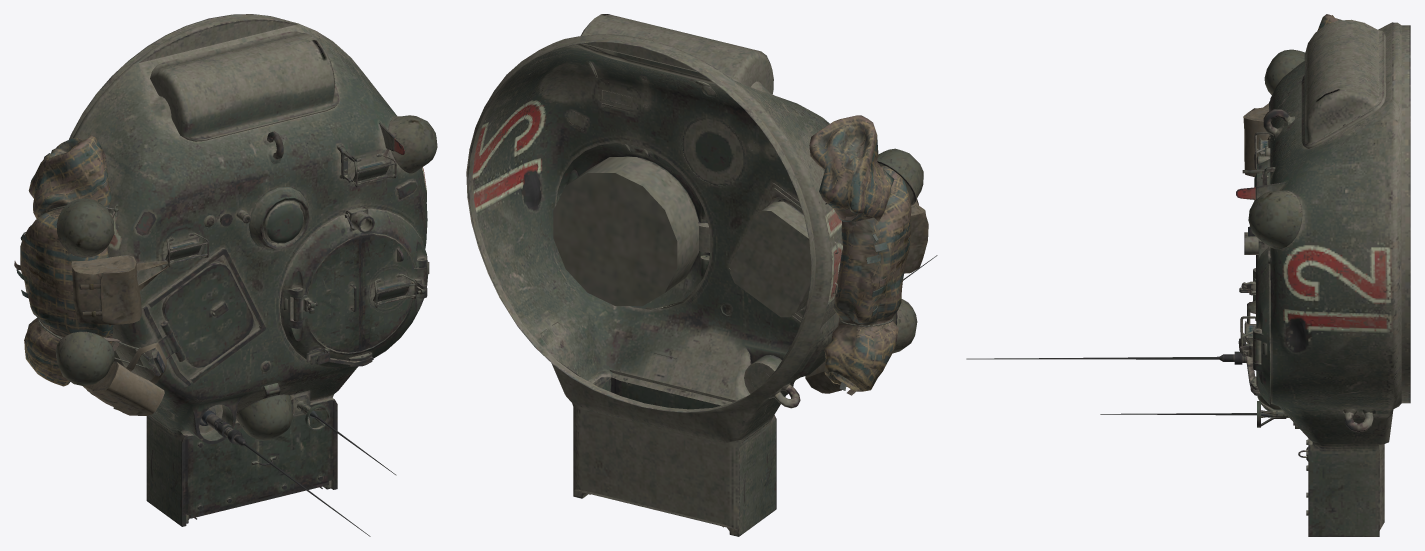
Rendered from Turret_01.glb.
The picture shows the model from 3 angles, left to right: view 1: azimuth 30°, elevation 25°; view 2: azimuth 150°, elevation 25°; view 3: azimuth 270°, elevation 25°; orthographic projection. The views are drawn at different scales.
Parts seen in each view (by area): view 1: set_0_group_0, set_0_group_1; view 2: set_0_group_0, set_0_group_1; view 3: set_0_group_0, set_0_group_1.
Part boxes in pixels (x1=…): set_0_group_0: x1=69, y1=14, x2=429, y2=536; set_0_group_1: x1=14, y1=115, x2=437, y2=440; set_0_group_0: x1=466, y1=14, x2=937, y2=536; set_0_group_1: x1=565, y1=63, x2=928, y2=395; set_0_group_0: x1=966, y1=19, x2=1410, y2=536; set_0_group_1: x1=1243, y1=14, x2=1341, y2=417.
Bounding box in the file's own units: 2.34 × 2.63 × 2.31.
Materials: 2 (2 with a texture image).
